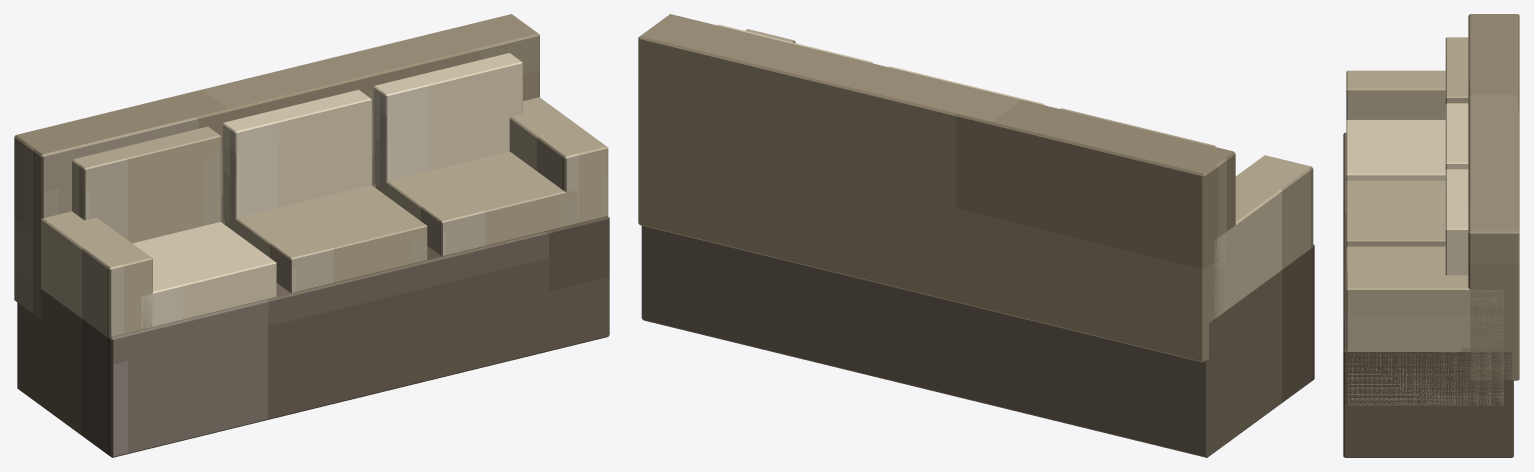
Rendered from lounge_couch_ivory_wide.glb.
The picture shows the model from 3 angles, left to right: view 1: azimuth 30°, elevation 25°; view 2: azimuth 150°, elevation 25°; view 3: azimuth 270°, elevation 25°; orthographic projection. The views are drawn at different scales.
Visible parts, largest first — view 1: CouchBase, CouchBack, BackCushion_2, BackCushion_3, SeatCushion_2, BackCushion_1, SeatCushion_3, CouchArm_L, SeatCushion_1, CouchArm_R; view 2: CouchBack, CouchBase, CouchArm_L; view 3: CouchBack, CouchBase, CouchArm_R, SeatCushion_2, SeatCushion_1, CouchArm_L, BackCushion_3, SeatCushion_3, BackCushion_1, BackCushion_2.
Part boxes in pixels (x1=…): CouchBase: x1=17, y1=216, x2=609, y2=457; CouchBack: x1=14, y1=14, x2=539, y2=319; BackCushion_2: x1=223, y1=89, x2=371, y2=227; BackCushion_3: x1=373, y1=53, x2=522, y2=190; SeatCushion_2: x1=225, y1=185, x2=427, y2=292; BackCushion_1: x1=72, y1=126, x2=221, y2=243; SeatCushion_3: x1=376, y1=151, x2=577, y2=255; CouchArm_L: x1=41, y1=211, x2=152, y2=338; SeatCushion_1: x1=132, y1=222, x2=276, y2=328; CouchArm_R: x1=509, y1=97, x2=608, y2=222; CouchBack: x1=638, y1=14, x2=1235, y2=362; CouchBase: x1=641, y1=226, x2=1314, y2=457; CouchArm_L: x1=1214, y1=155, x2=1313, y2=318; CouchBack: x1=1468, y1=14, x2=1519, y2=380; CouchBase: x1=1343, y1=132, x2=1513, y2=457; CouchArm_R: x1=1346, y1=270, x2=1503, y2=405; SeatCushion_2: x1=1346, y1=180, x2=1445, y2=247; SeatCushion_1: x1=1346, y1=120, x2=1445, y2=180; CouchArm_L: x1=1346, y1=70, x2=1445, y2=120; BackCushion_3: x1=1445, y1=169, x2=1468, y2=275; SeatCushion_3: x1=1346, y1=246, x2=1445, y2=270; BackCushion_1: x1=1445, y1=37, x2=1468, y2=103; BackCushion_2: x1=1445, y1=103, x2=1468, y2=169.
Bounding box in the file's own units: 1.82 × 0.91 × 0.62.
1 material, 1 textured.
